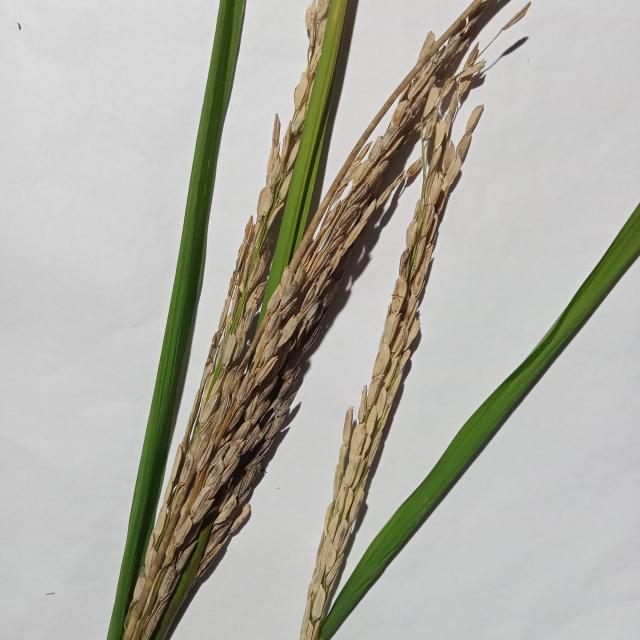Neck_Blast: (119, 0, 538, 640), (296, 118, 470, 638)
